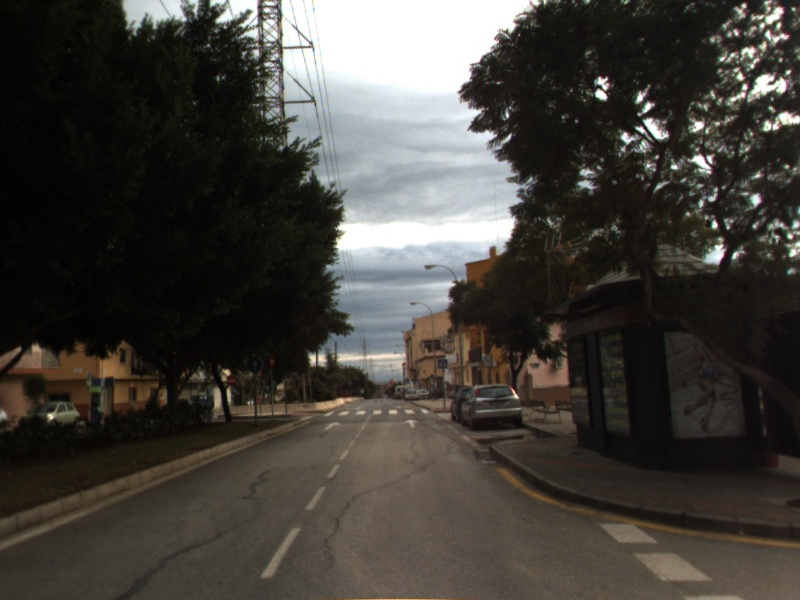STRAIGHT: (401, 417, 422, 430), (322, 420, 344, 432)
